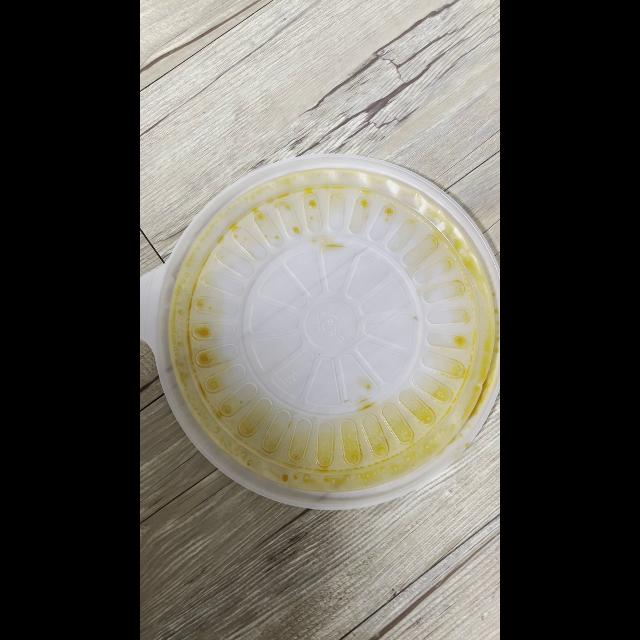dirty: (152, 162, 500, 510)
